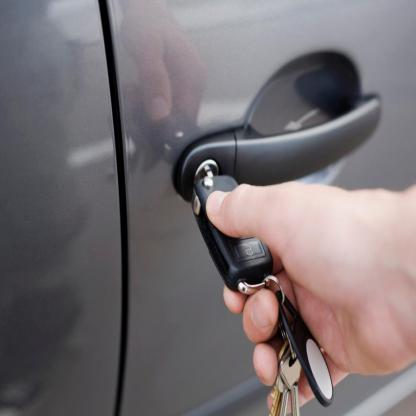keys: (195, 165, 275, 287), (269, 344, 304, 416)
